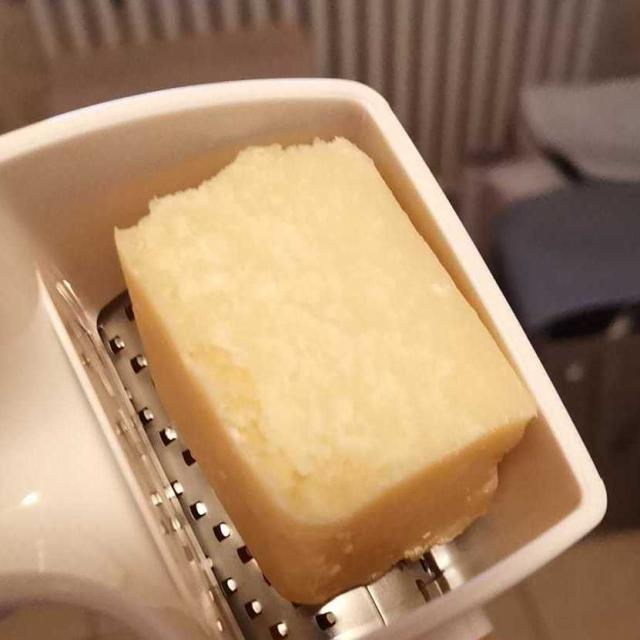cheese: (123, 147, 524, 601)
